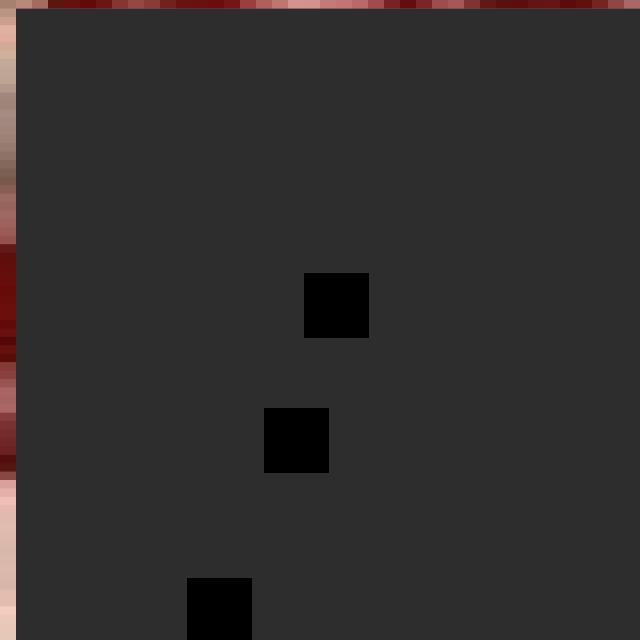fire: (16, 8, 640, 640)
